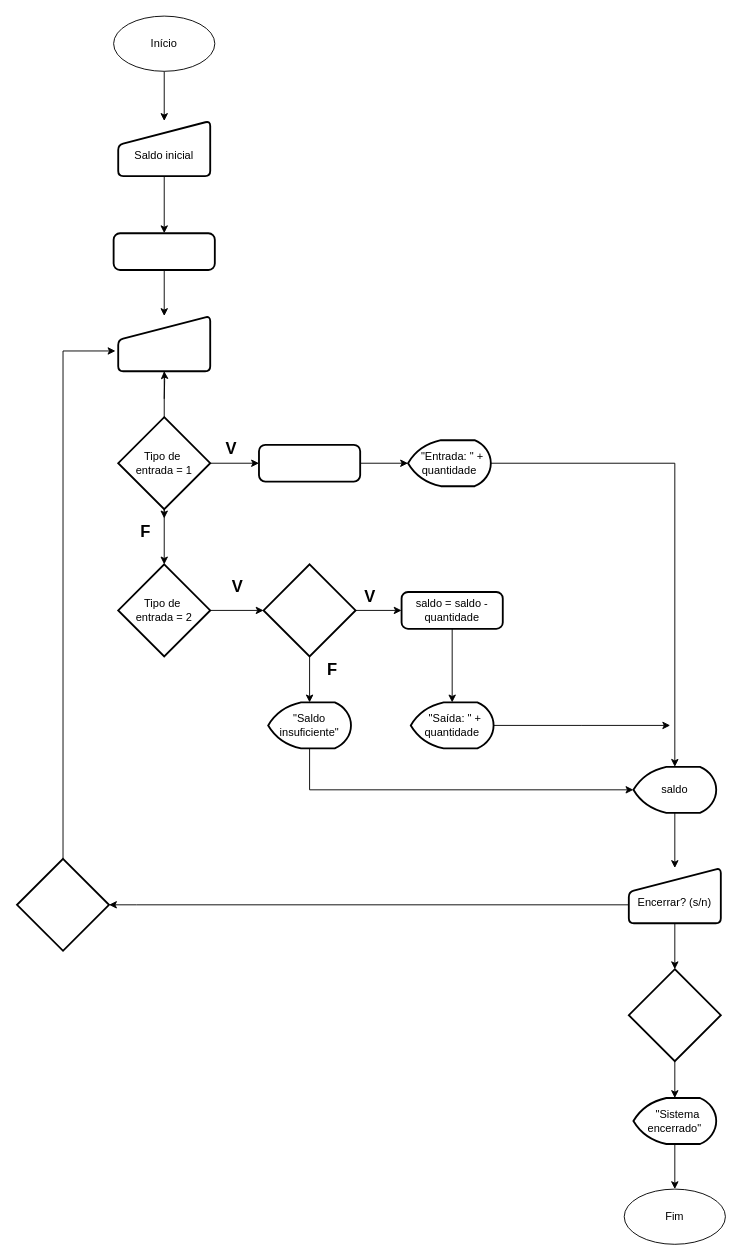
This 742x1260 diagram has some shape labels left out. Here are the shapes that lost their labels. From the top down, the box of each, then its label:
(112, 232, 215, 270): Encerrar = 'n'
(117, 315, 211, 372): 1: - Entrada 2 - Saída
(258, 443, 361, 482): saldo = saldo + quantidade
(262, 563, 356, 657): saldo >= quantidade
(16, 857, 109, 951): Não
(627, 968, 721, 1062): Sim
